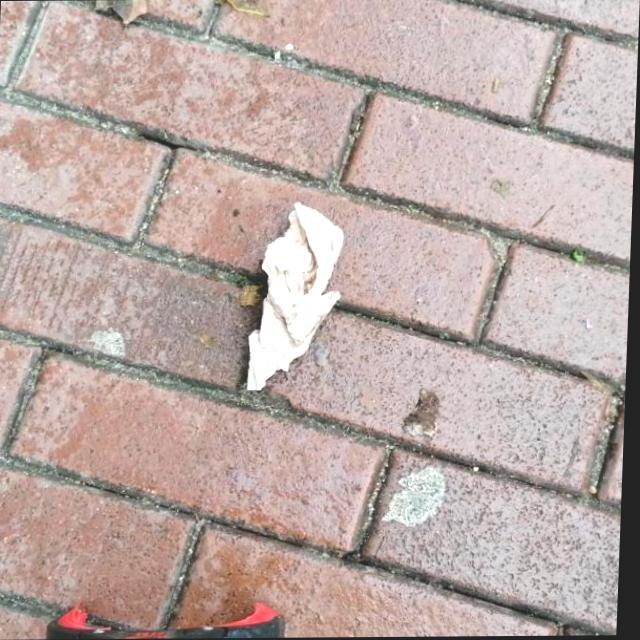Paper: (247, 200, 349, 391)
